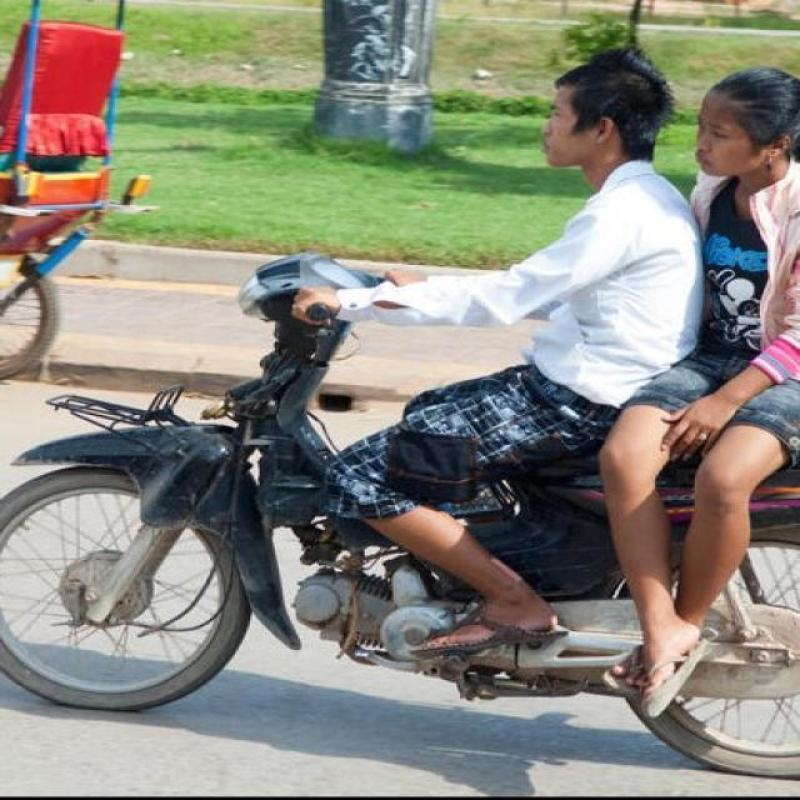nohelmet: (538, 55, 672, 170), (675, 53, 789, 187)
